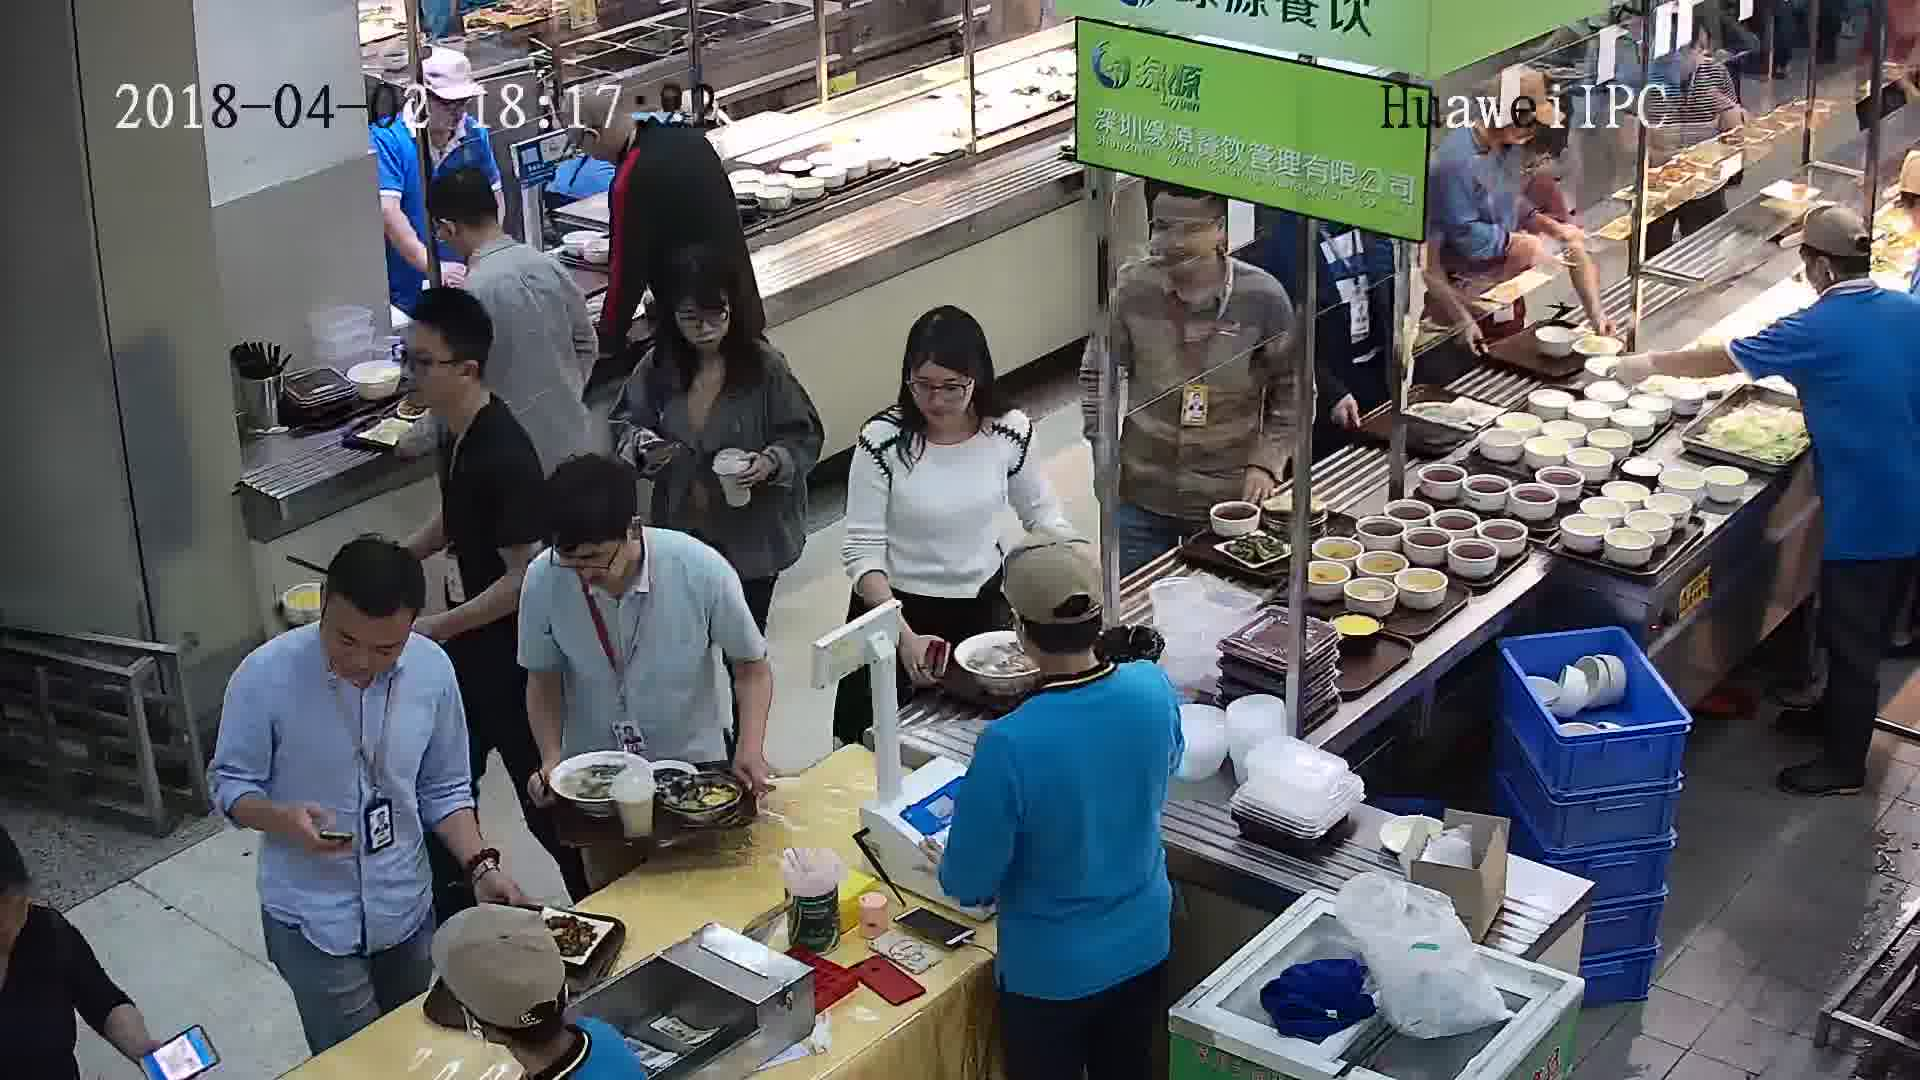face: (382, 316, 476, 410), (323, 593, 415, 685), (1143, 193, 1225, 274), (909, 359, 976, 426), (563, 528, 622, 587), (675, 293, 733, 351), (580, 137, 602, 160)
person: (966, 532, 1180, 769), (225, 535, 465, 737), (518, 453, 745, 639), (853, 305, 1033, 488), (627, 254, 809, 422), (403, 292, 532, 485), (1114, 184, 1285, 326), (1773, 206, 1917, 351), (424, 165, 569, 307), (558, 76, 722, 191), (3, 801, 94, 1005), (1426, 71, 1561, 194), (385, 43, 507, 171)
